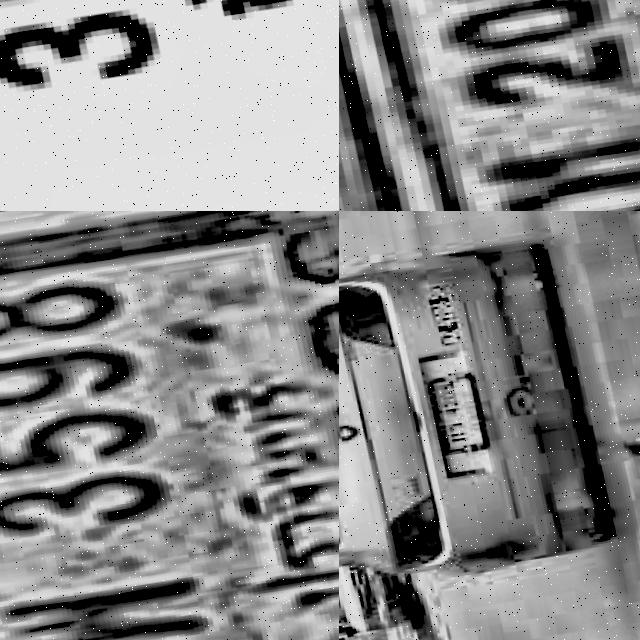license-plate: (0, 211, 339, 640), (0, 0, 339, 211), (339, 0, 640, 211), (417, 369, 486, 460)
